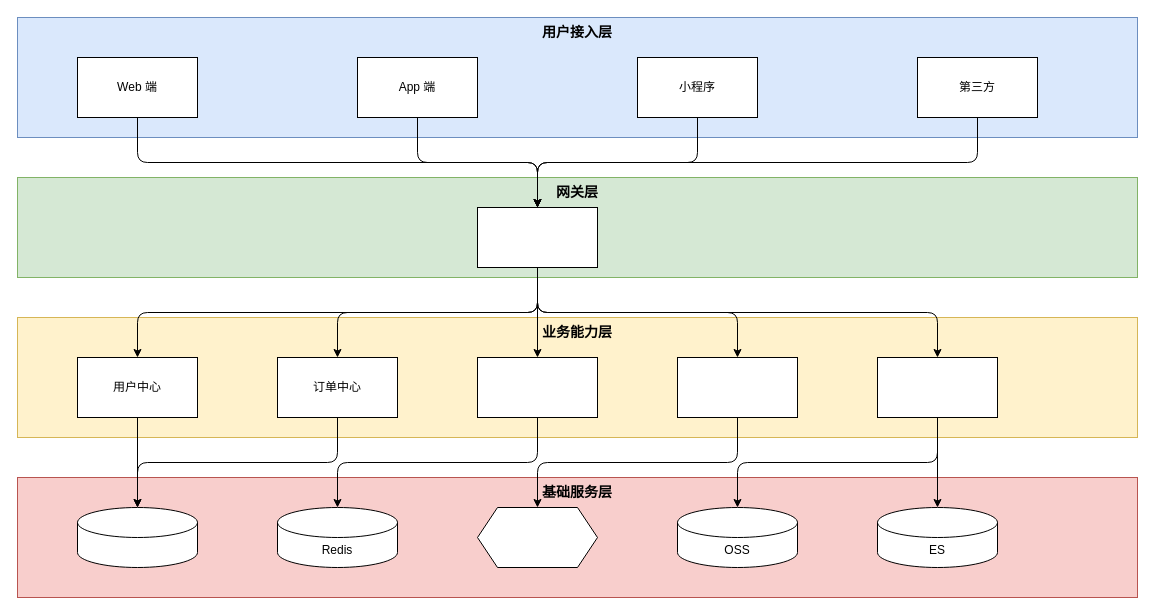
The diagram is 1155 pixels wide and 615 high, and some of its shapes have lost their labels. Here are the shapes that lost their labels. From the top down, the centre of each, then its label:
At pixel 537 237: "API 网关 鉴权 / 限流 / 路由 / 灰度".
At pixel 537 387: "商品中心".
At pixel 737 387: "支付中心".
At pixel 937 387: "营销中心".
At pixel 137 537: "MySQL".
At pixel 537 537: "Kafka".
